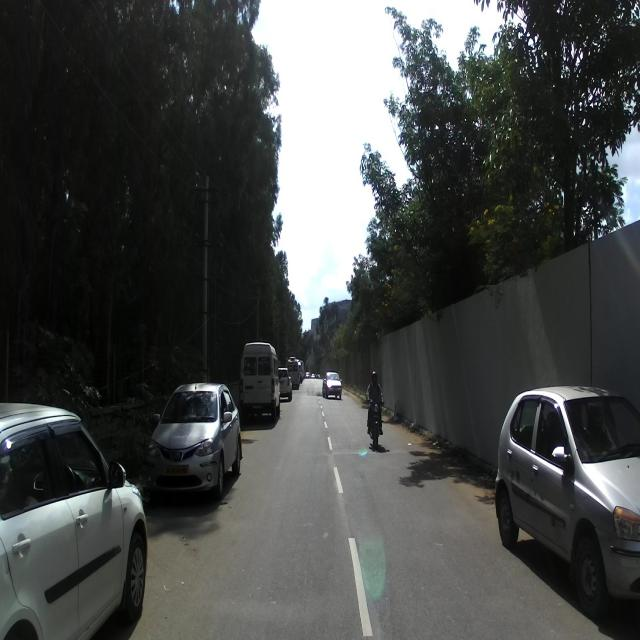car: (493, 380, 639, 620), (1, 401, 148, 639), (145, 378, 243, 510)
